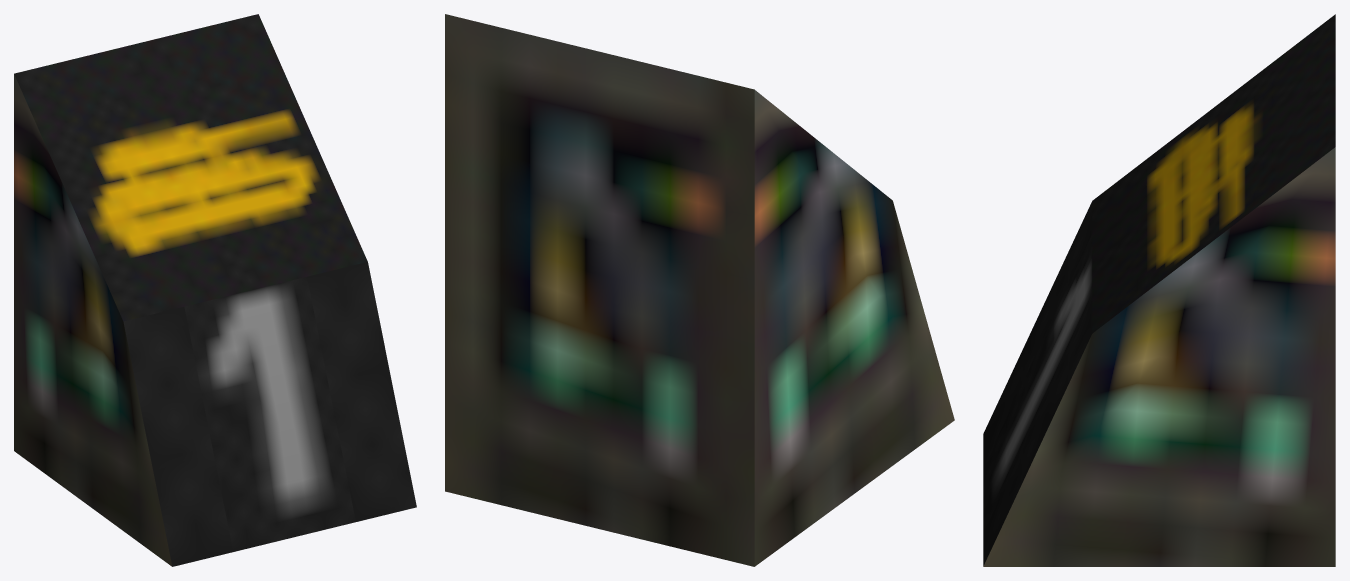
File: prop-040.glb
3 views of the same model, side by side, from view 1: azimuth 30°, elevation 25°; view 2: azimuth 150°, elevation 25°; view 3: azimuth 270°, elevation 25° (orthographic). The views are drawn at different scales.
Visible parts, largest first — view 1: root; view 2: root; view 3: root.
Part boxes in pixels (left/top/right/bottom): root: left=14, top=14, right=416, bottom=566; root: left=445, top=14, right=954, bottom=566; root: left=983, top=14, right=1335, bottom=566.
Bounding box in the file's own units: 0.6582 × 0.9707 × 0.7383.
Materials: 1 (1 with a texture image).
